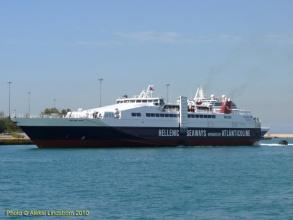youlun: (15, 73, 270, 146)
